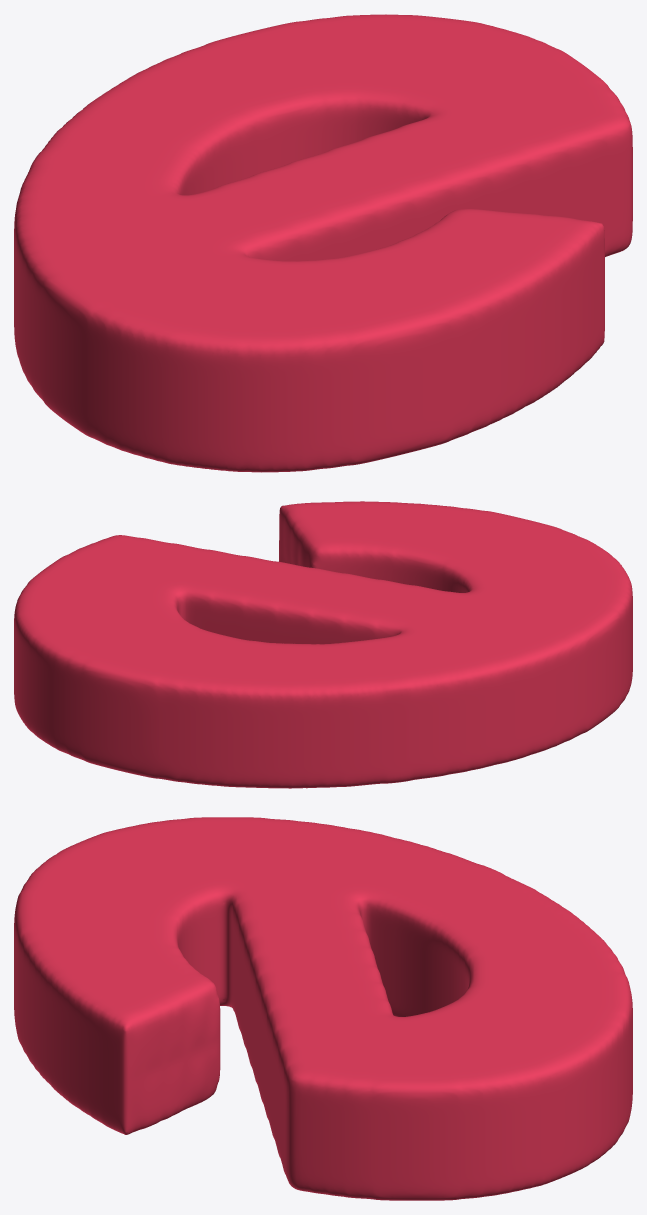
Rendered from emole_e_test03_260604.glb.
The picture shows the model from 3 angles, top to bottom: view 1: azimuth 30°, elevation 25°; view 2: azimuth 150°, elevation 25°; view 3: azimuth 270°, elevation 25°; orthographic projection. The views are drawn at different scales.
Visible parts, largest first — view 1: emole-e; view 2: emole-e; view 3: emole-e.
Boxes of the visible parts, left/top/right/bottom form: emole-e: left=14, top=14, right=632, bottom=472; emole-e: left=14, top=501, right=632, bottom=788; emole-e: left=14, top=817, right=632, bottom=1200.
Size of the model in its own units: 0.2812 by 0.0563 by 0.2673.
